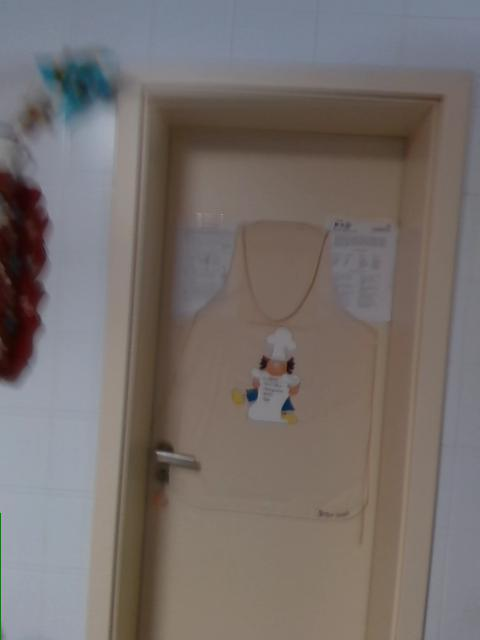door: (137, 138, 405, 638)
